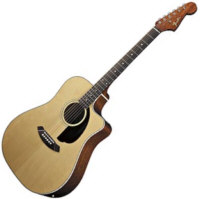guitar: (1, 2, 197, 197)
